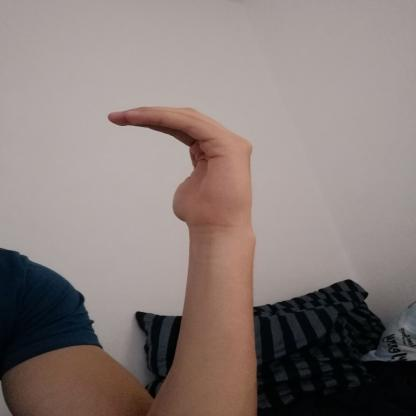HAA: (92, 92, 275, 240)
